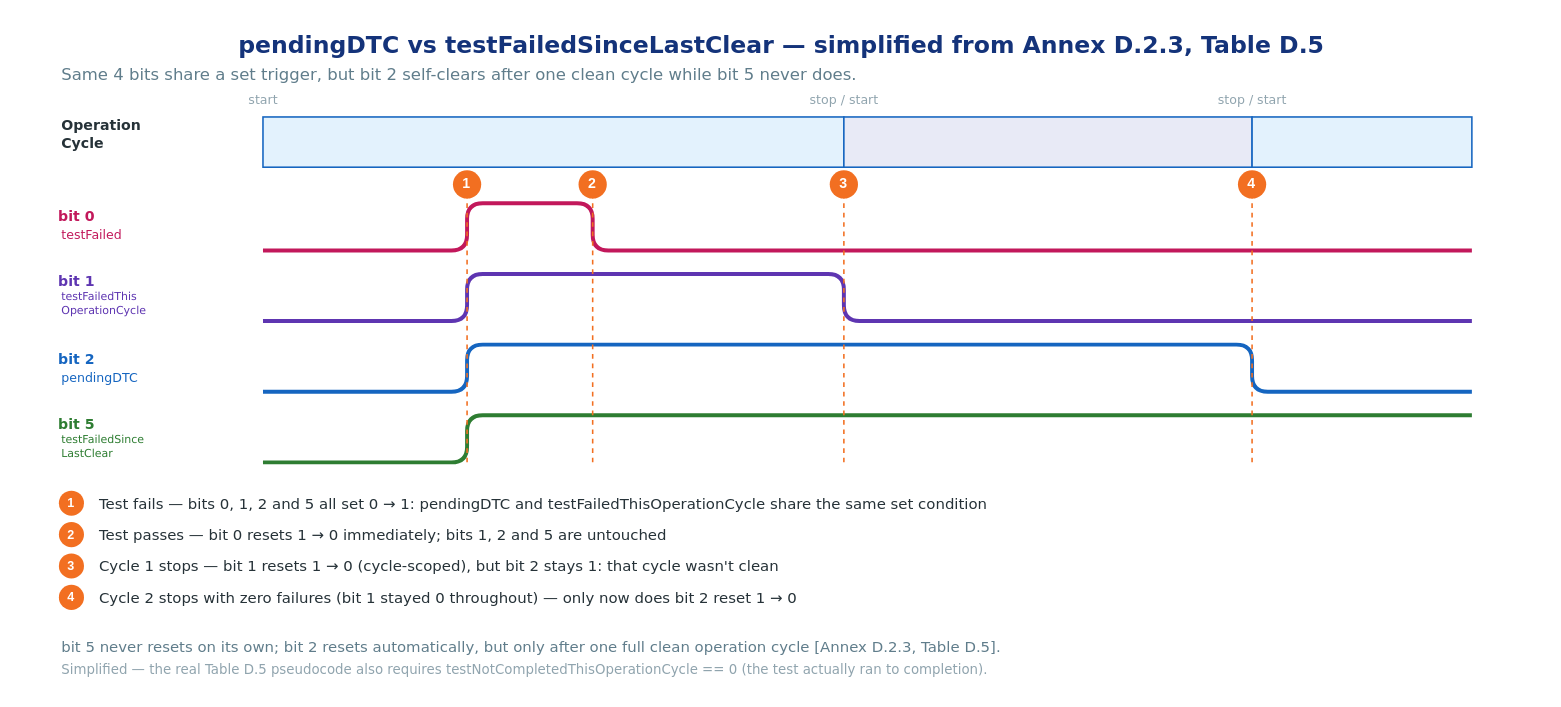
This 1561x707 diagram has some shape labels left out. Here are the shapes that lost their labels. From the top down, the centre of each, then its label:
At pixel 552 141: "Operation Cycle 1".
At pixel 1047 141: "Operation Cycle 2".
At pixel 1361 141: "Cycle 3".
